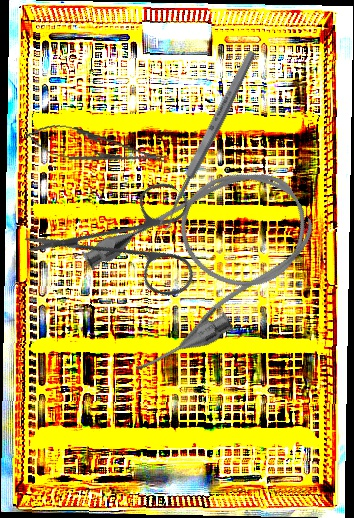Cannula: (70, 142, 339, 384)
Iris Scissors: (21, 136, 232, 347)
Needle Holder: (22, 118, 170, 177)
Surgical Spoon: (156, 48, 259, 232)
